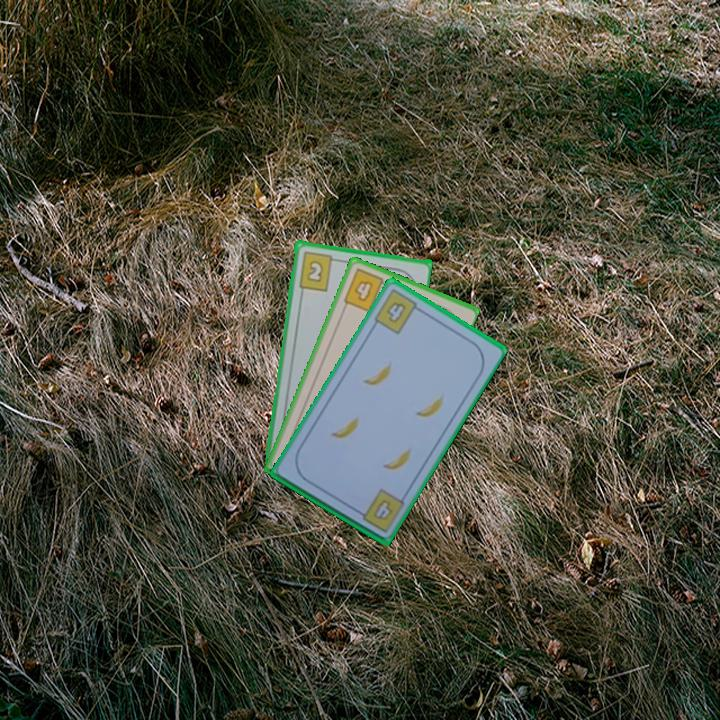2b: (295, 248, 341, 293)
4b: (370, 285, 425, 337), (340, 265, 392, 315), (369, 496, 395, 523)
